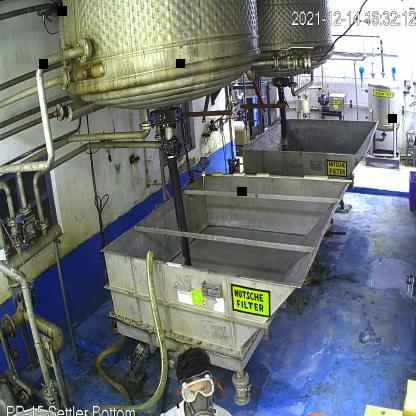goggles: (178, 378, 217, 402)
mask: (184, 393, 218, 416)
